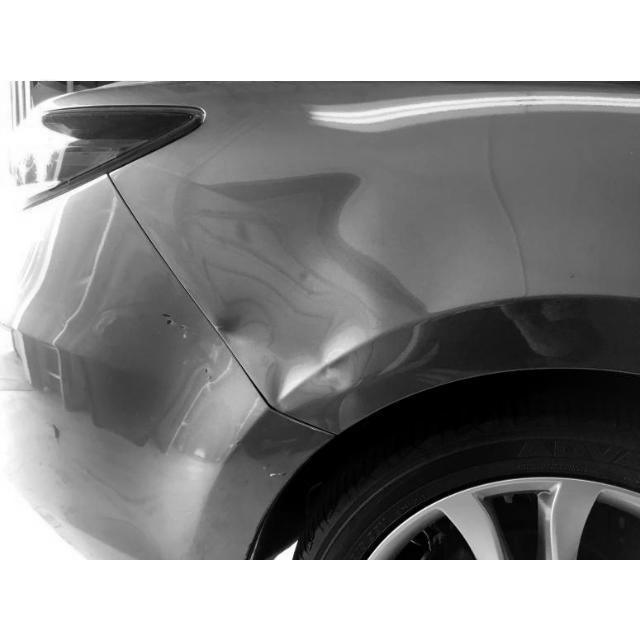quaterpanel-dent: (139, 81, 640, 528)
